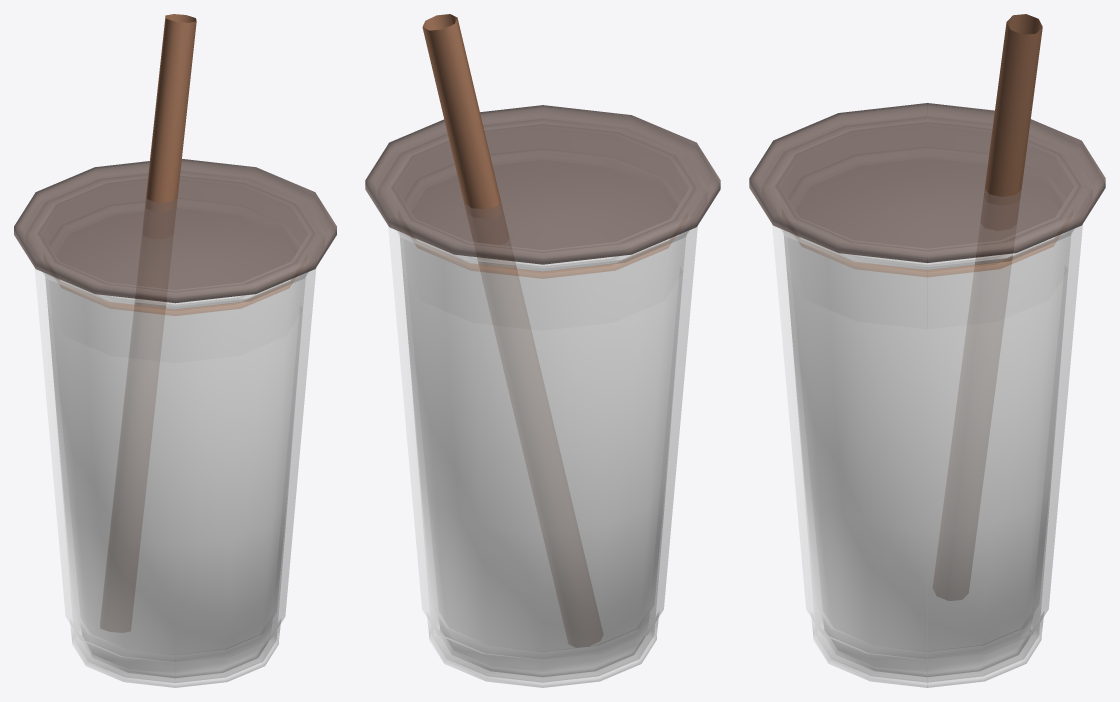
Rendered from milk _tea_NO_boba.glb.
3 views of the same model, side by side, from view 1: azimuth 30°, elevation 25°; view 2: azimuth 150°, elevation 25°; view 3: azimuth 270°, elevation 25° (orthographic). The views are drawn at different scales.
Parts seen in each view (by area): view 1: Cup, drink, top, straw; view 2: Cup, drink, top, straw; view 3: Cup, drink, top, straw.
Boxes of the visible parts, x1,y1,x2,y2 form: Cup: (27,171,323,687); drink: (45,274,305,677); top: (14,159,336,303); straw: (100,14,196,632); Cup: (378,119,707,687); drink: (399,232,686,676); top: (365,105,720,264); straw: (422,14,602,646); Cup: (762,117,1092,687); drink: (783,231,1071,676); top: (749,103,1105,262); straw: (933,14,1042,600).
Bounding box in the file's own units: 1.03 × 2.06 × 1.03.
